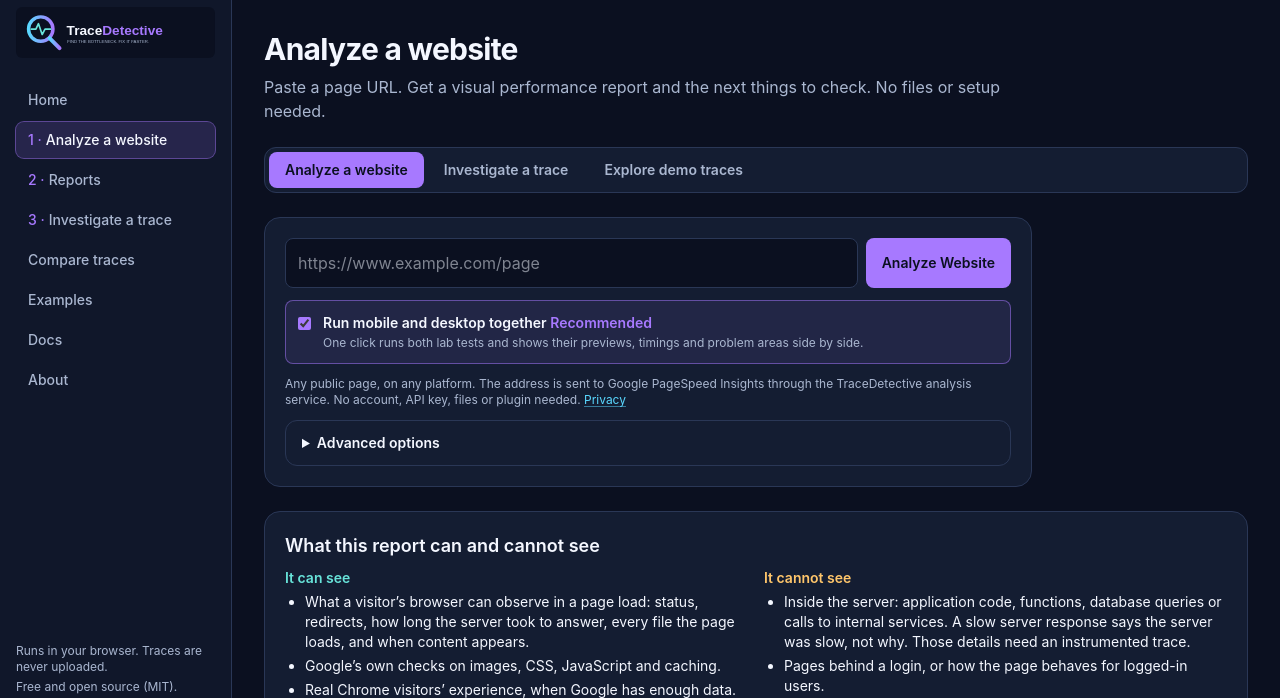
Test case: website analysis › asks the visitor to wait when the analysis service rate-limits them
Type "example.com" into the field named "Website URL" at (571, 263), box [285,238,858,288]
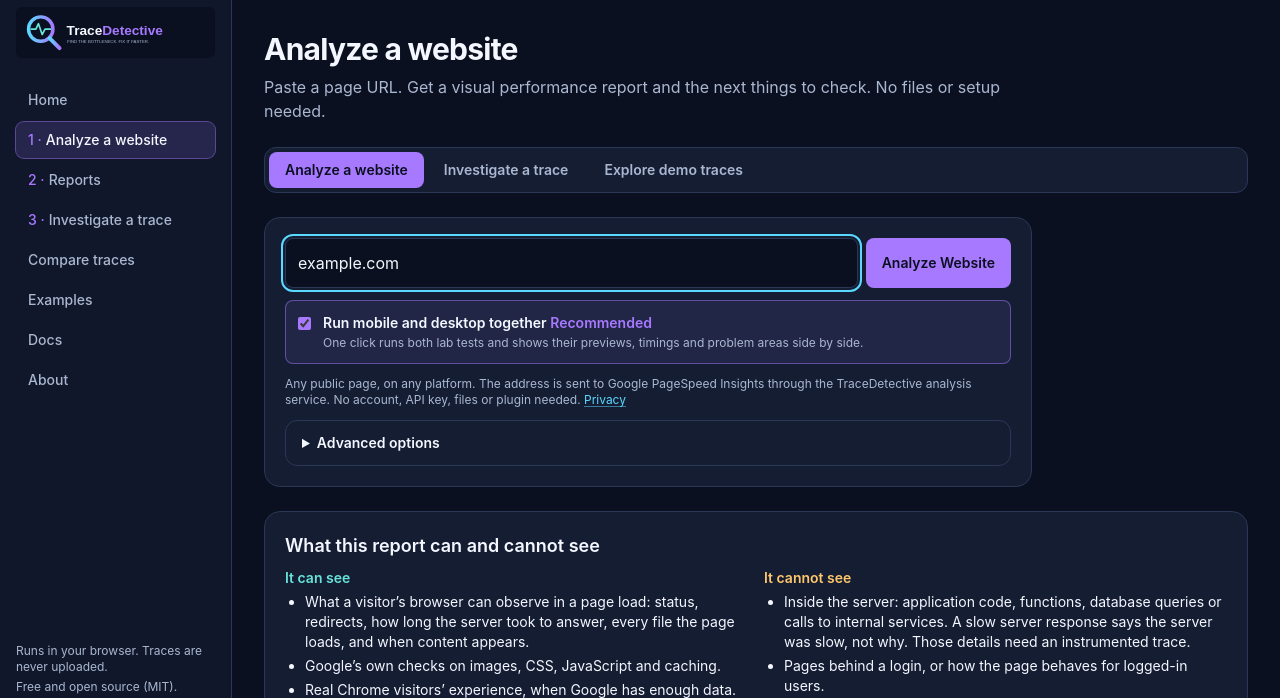
Click the button "Analyze Website" at (938, 263), box [866,238,1011,288]
(page scrolled)
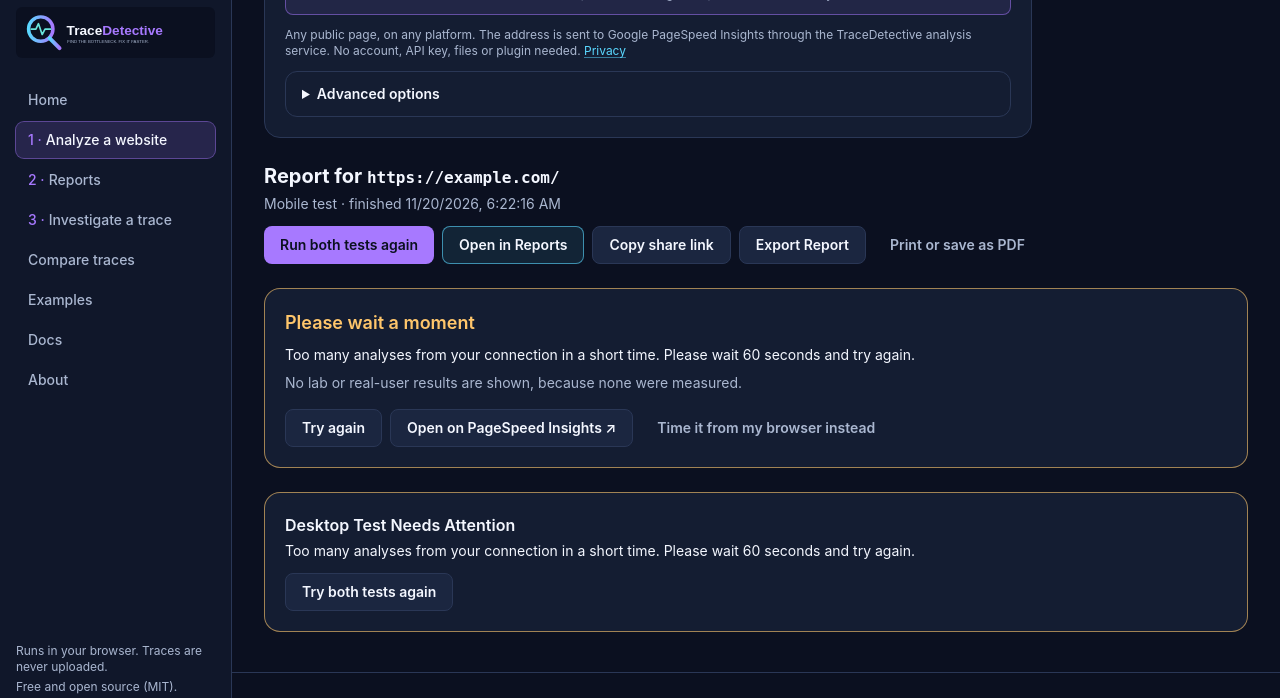
Now the heading "Please wait a moment" is shown, box [285,312,475,333]
